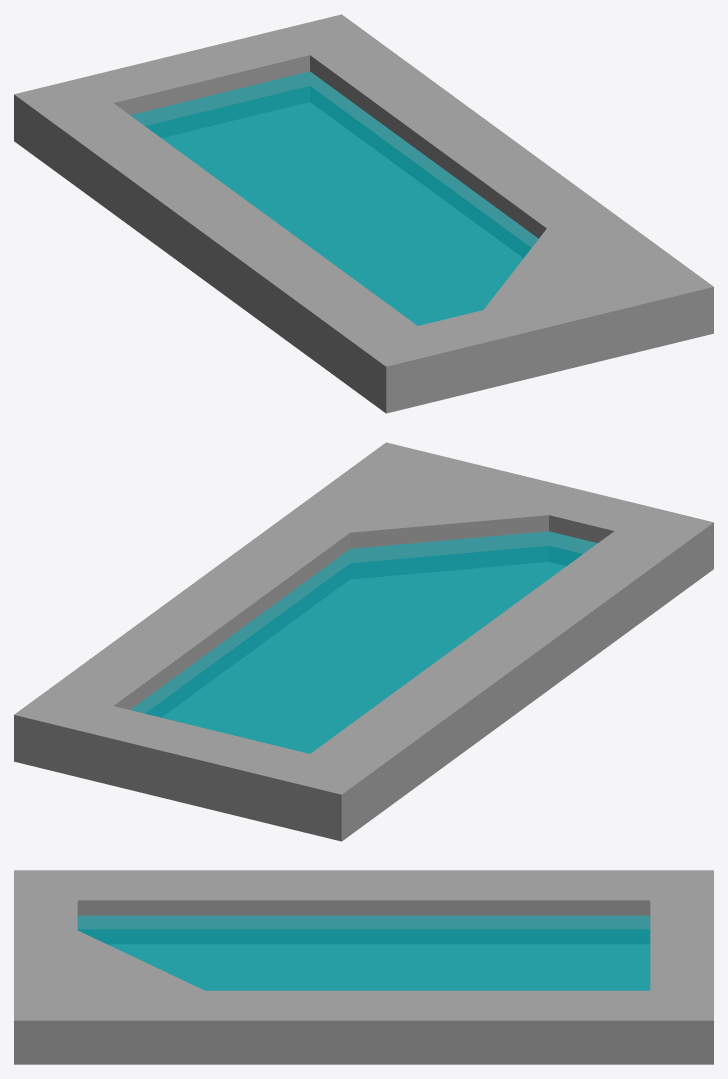
The model's file is keycard.fbx.
3 views of the same model, one above another, from view 1: azimuth 30°, elevation 25°; view 2: azimuth 150°, elevation 25°; view 3: azimuth 270°, elevation 25° (orthographic). The views are drawn at different scales.
Visible parts, largest first — view 1: keycard; view 2: keycard; view 3: keycard.
Boxes of the visible parts, x1=… form: keycard: x1=14, y1=14, x2=713, y2=413; keycard: x1=14, y1=442, x2=713, y2=841; keycard: x1=14, y1=870, x2=713, y2=1064.
Bounding box in the file's own units: 2.03 × 0.2764 × 3.98.
